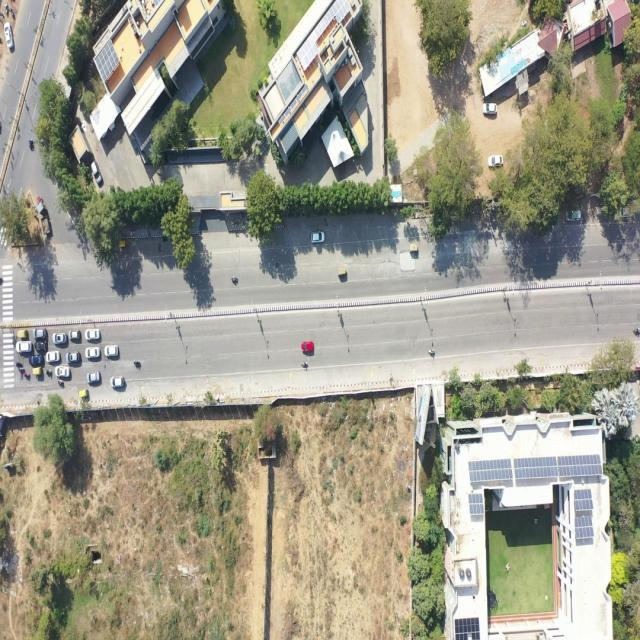3W: (408, 242, 419, 254), (118, 239, 130, 249), (31, 367, 43, 377), (78, 389, 90, 399), (16, 329, 29, 338), (338, 266, 348, 277)
Cars: (89, 161, 104, 187), (3, 22, 15, 52), (482, 100, 501, 117), (55, 364, 72, 380), (104, 343, 120, 360), (52, 330, 68, 346), (110, 374, 126, 390), (300, 339, 316, 354), (15, 340, 33, 353), (564, 209, 583, 221), (86, 372, 102, 386), (28, 353, 45, 366), (84, 329, 101, 342), (486, 156, 504, 168), (65, 352, 82, 364), (84, 347, 101, 359), (46, 352, 62, 364), (618, 206, 634, 218), (310, 231, 326, 243), (69, 330, 82, 343), (32, 329, 47, 338), (34, 341, 48, 350)
M2W: (632, 326, 640, 337), (10, 7, 16, 21), (301, 360, 310, 369), (231, 276, 240, 285), (161, 235, 170, 243), (134, 359, 142, 368), (58, 378, 65, 388), (4, 3, 9, 17), (29, 138, 34, 151), (46, 368, 52, 377), (16, 360, 22, 368), (429, 349, 435, 356), (19, 367, 25, 373), (25, 374, 30, 379)
Truck: (35, 195, 52, 239)
